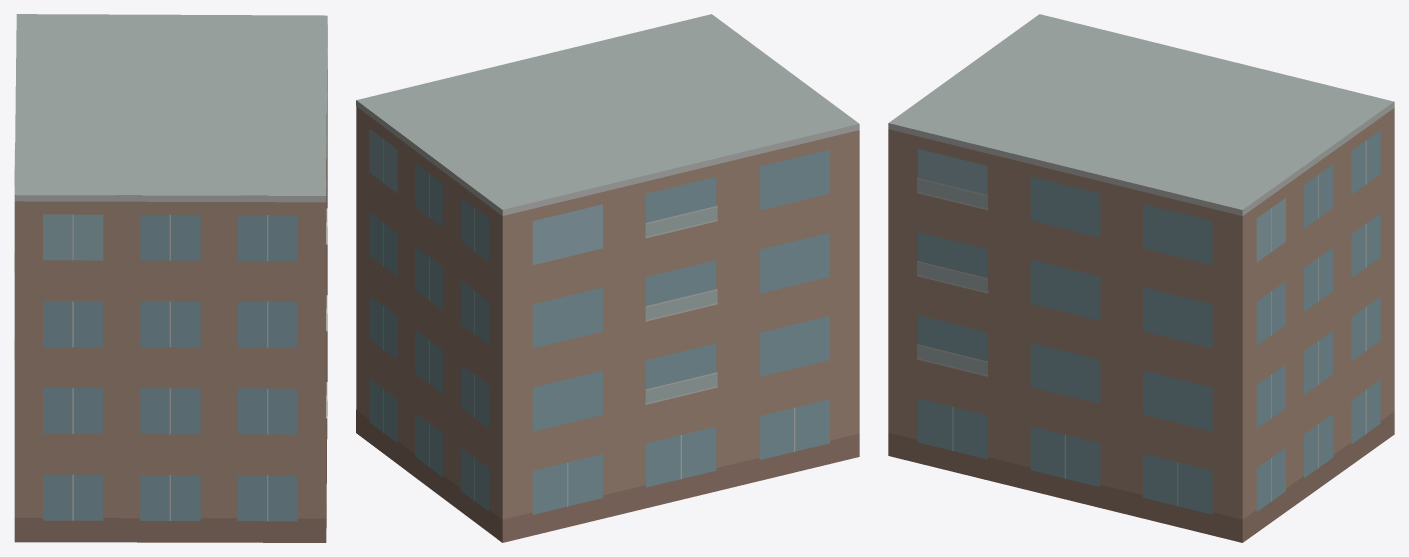
The model's file is survey-upis-33037947.glb.
3 views of the same model, side by side, from view 1: azimuth 30°, elevation 25°; view 2: azimuth 150°, elevation 25°; view 3: azimuth 270°, elevation 25° (orthographic). The views are drawn at different scales.
Visible parts, largest first — view 1: survey-upis-33037947.tmp; view 2: survey-upis-33037947.tmp; view 3: survey-upis-33037947.tmp.
Part boxes in pixels (x1,y1,x2,y2): survey-upis-33037947.tmp: [14, 14, 327, 542]; survey-upis-33037947.tmp: [356, 14, 859, 542]; survey-upis-33037947.tmp: [888, 14, 1394, 542].
Bounding box in the file's own units: 16.86 × 13.34 × 18.39.
